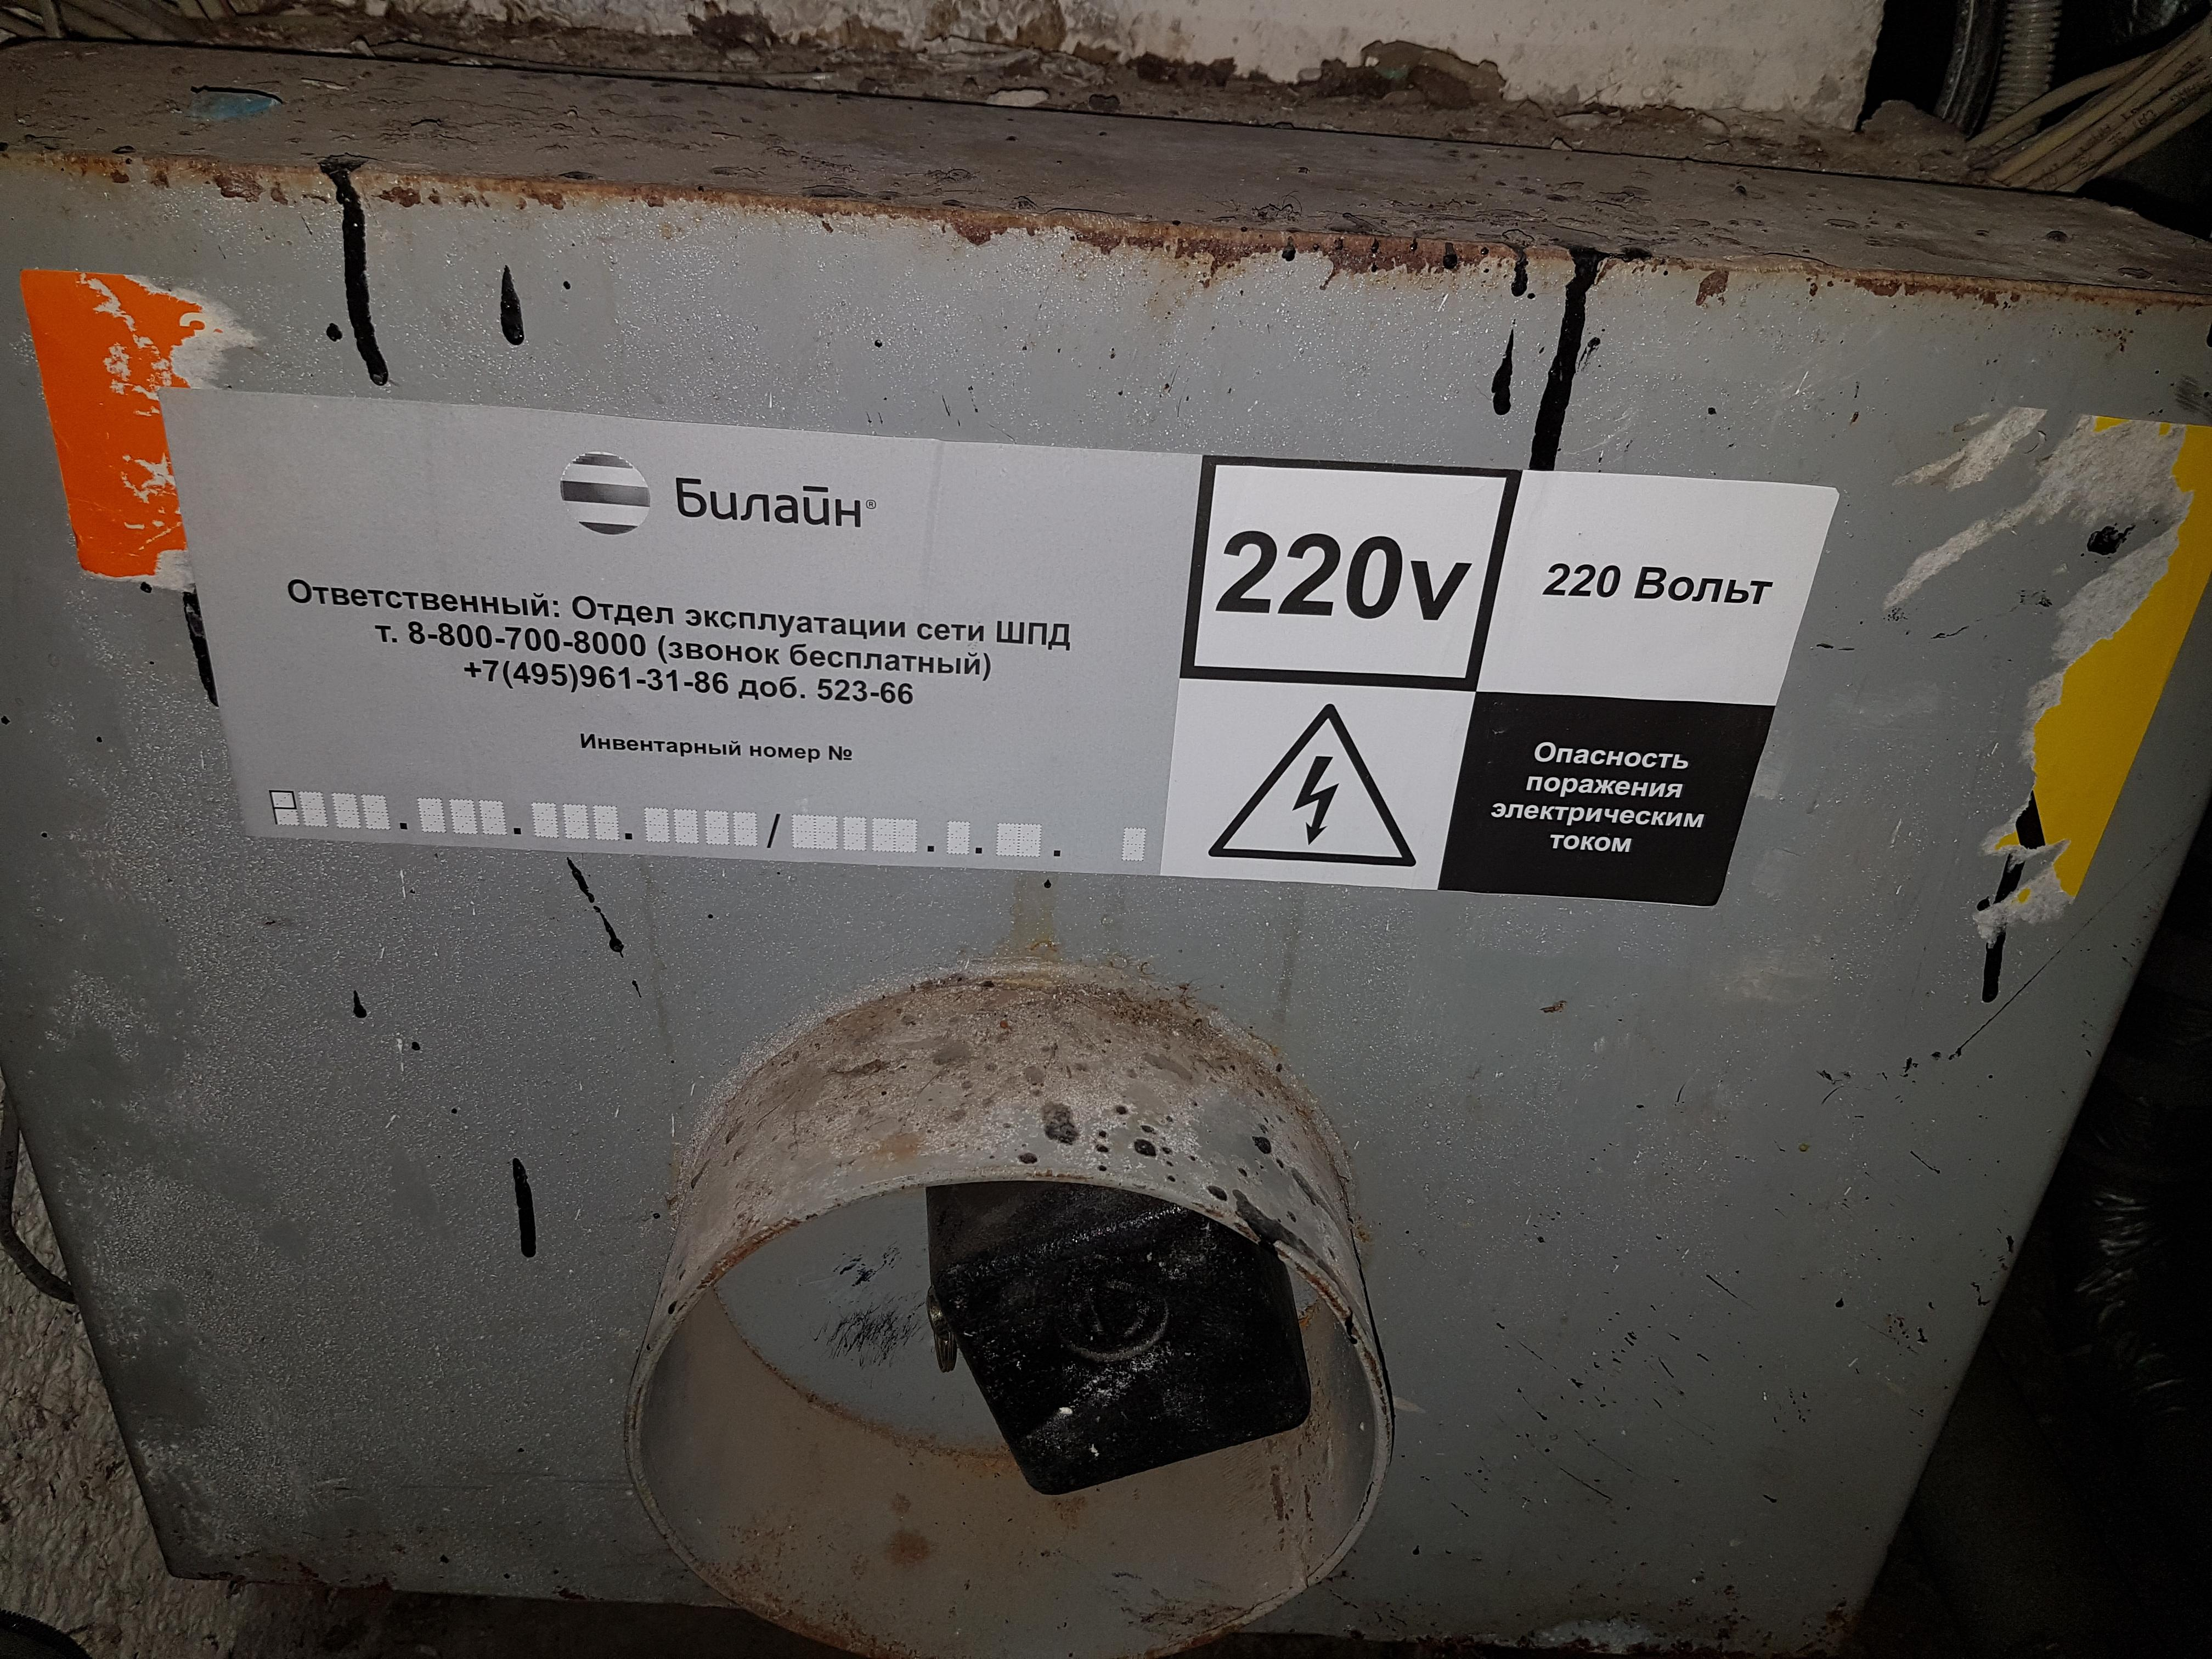shta-3: (5, 38, 2207, 1652)
